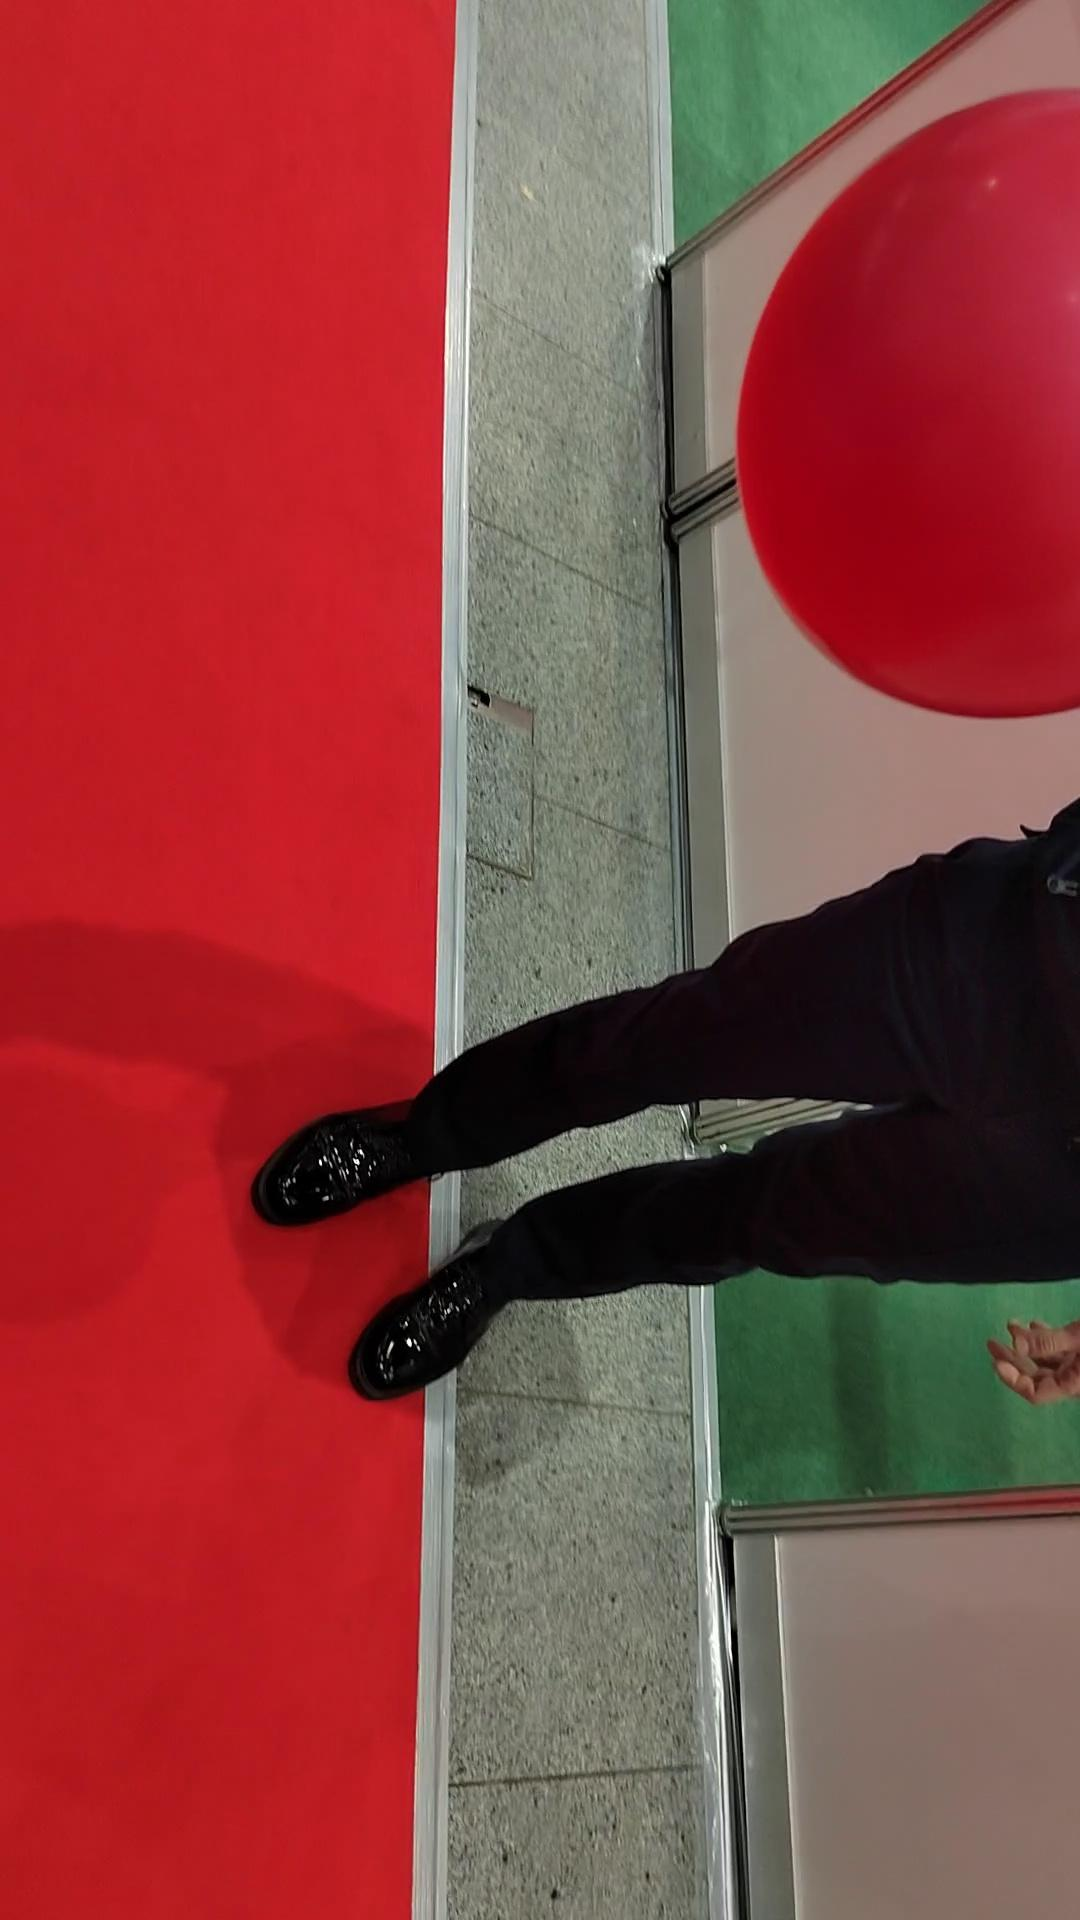red: (731, 75, 1080, 721)
